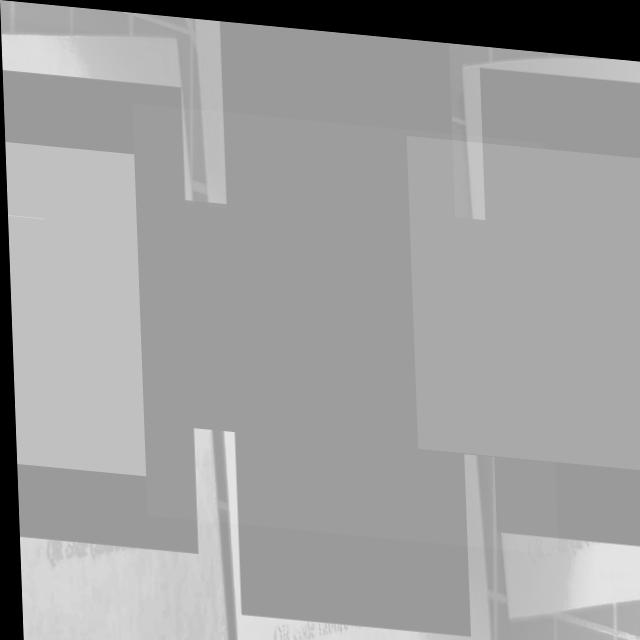qr_code: (132, 101, 555, 544), (4, 142, 264, 483), (406, 128, 640, 458)
